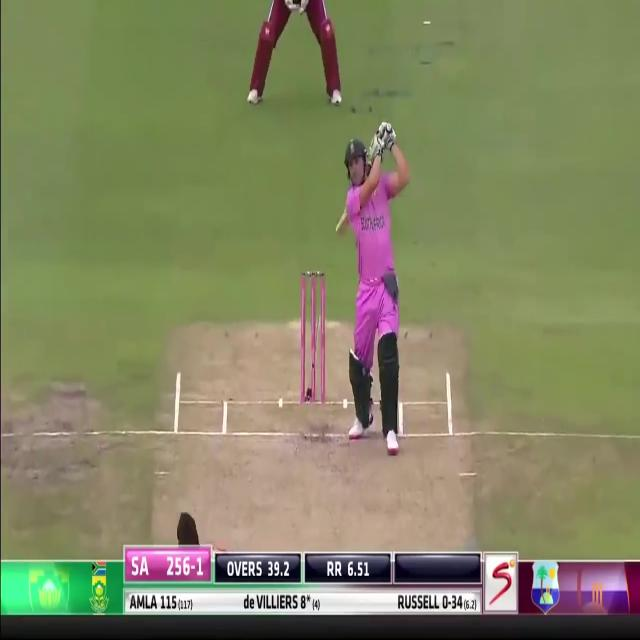Ball: (342, 126, 406, 448)
Fielder: (337, 125, 419, 438), (246, 1, 296, 107)
